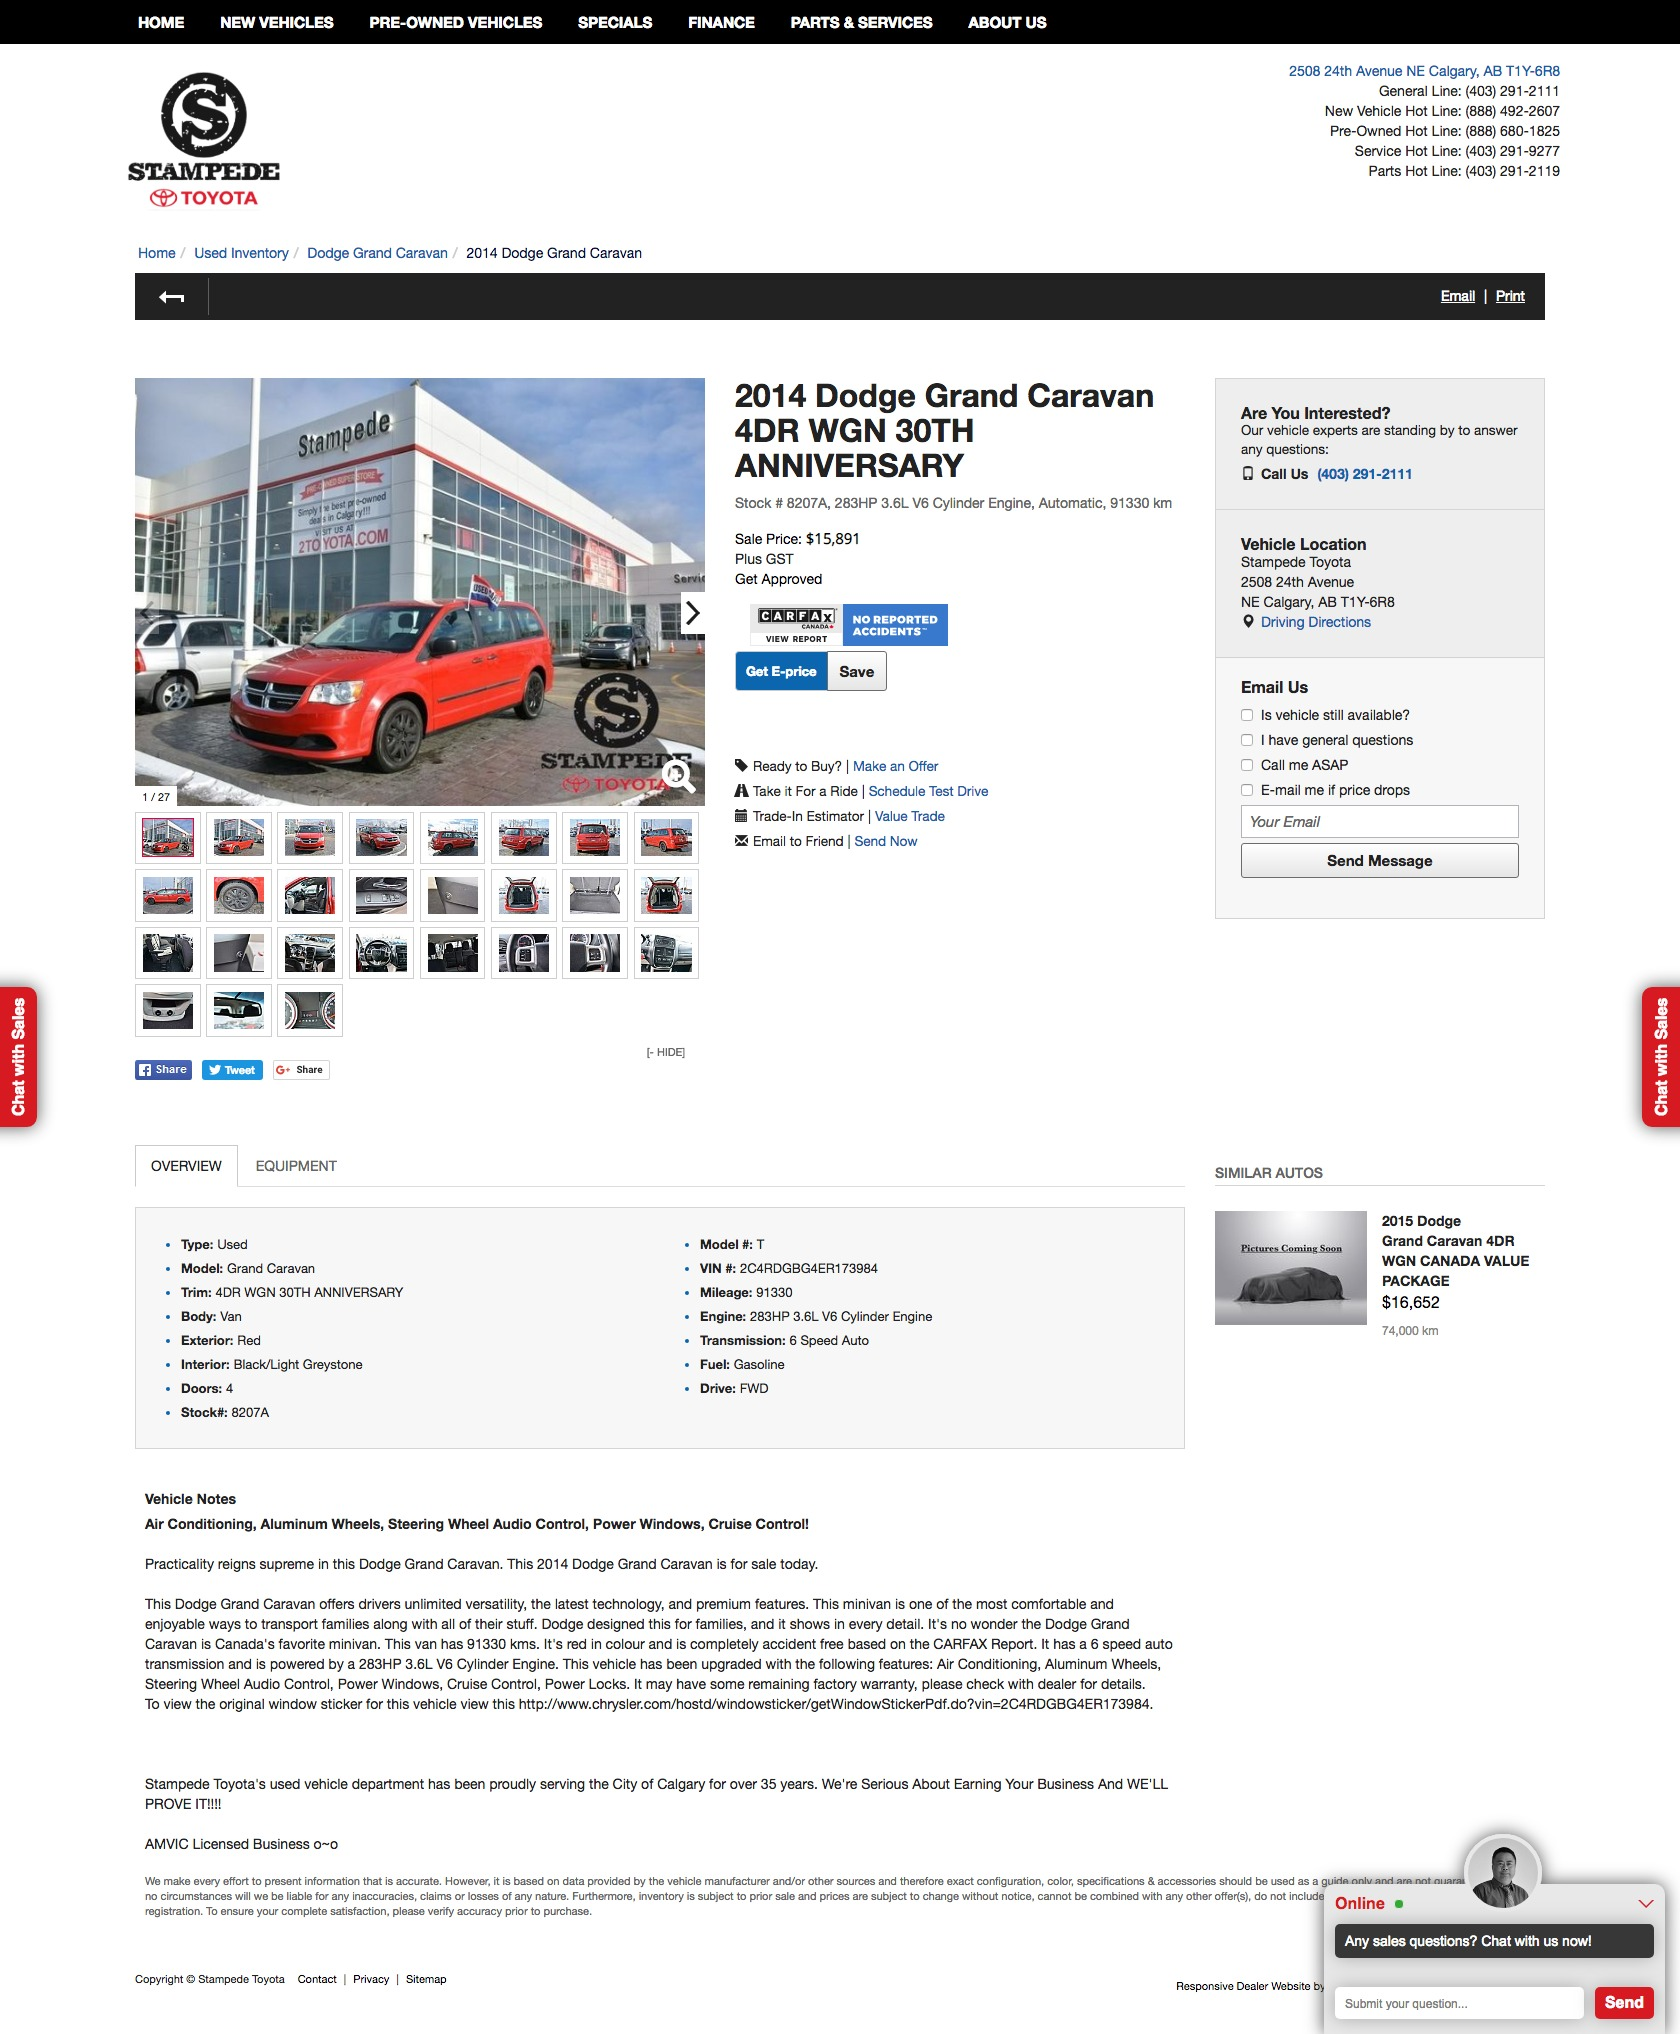car: (679, 591, 712, 637)
